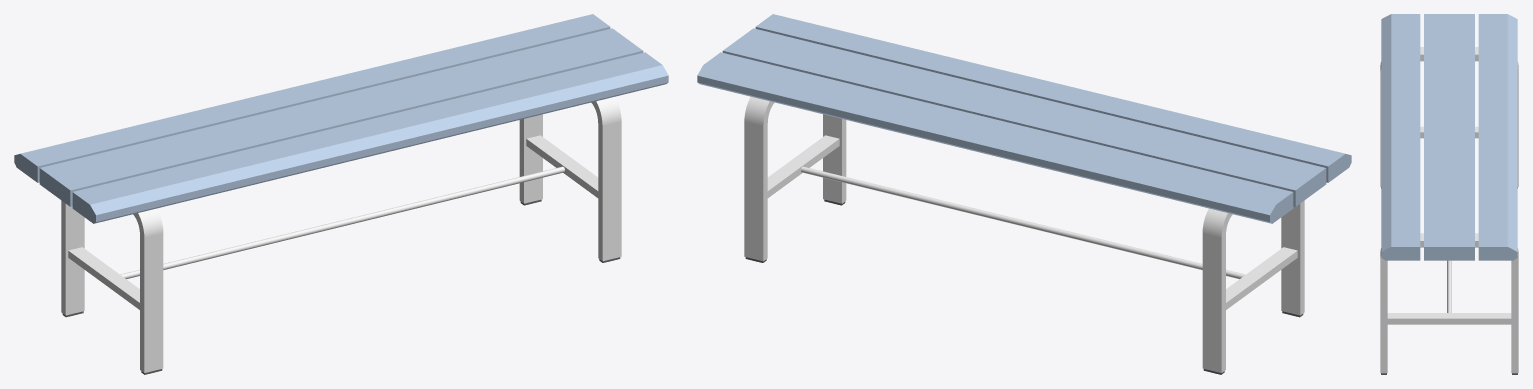
The model's file is 983_aluminum_bench.glb.
3 views of the same model, side by side, from view 1: azimuth 30°, elevation 25°; view 2: azimuth 150°, elevation 25°; view 3: azimuth 270°, elevation 25° (orthographic). The views are drawn at different scales.
Parts seen in each view (by area): view 1: Body; view 2: Body; view 3: Body.
Boxes of the visible parts, x1,y1,x2,y2 form: Body: [14, 14, 668, 374]; Body: [697, 14, 1351, 374]; Body: [1380, 14, 1518, 374].
Size of the model in its own units: 1.5 by 0.4442 by 0.3768.
